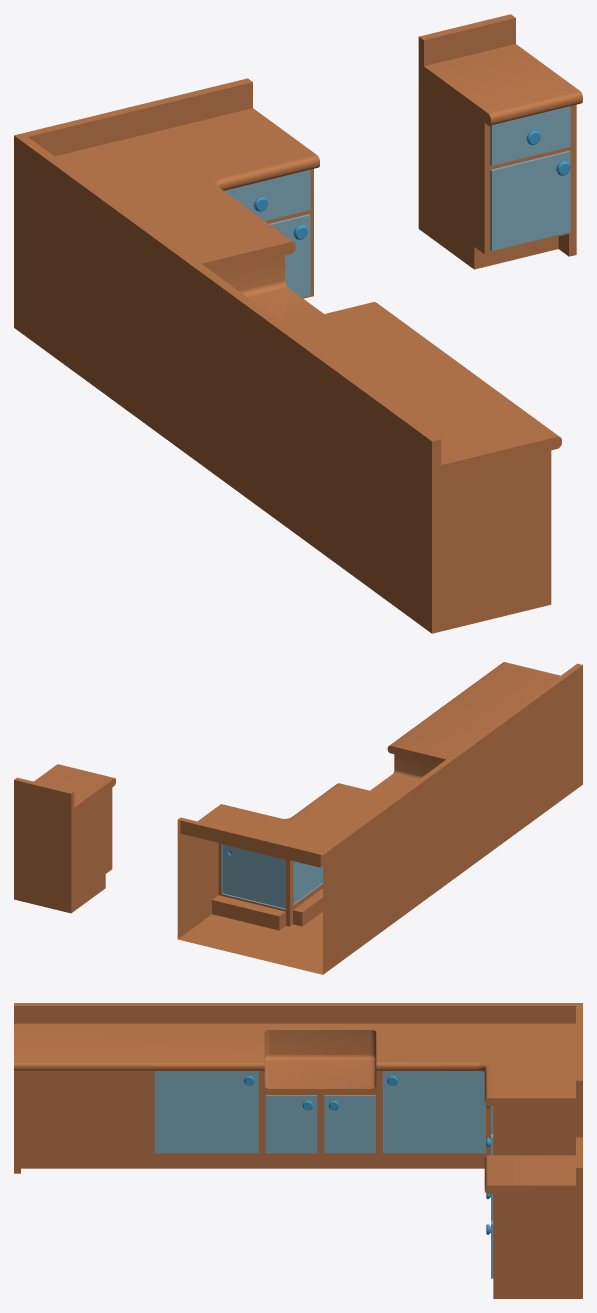
Rendered from kitchen.fbx.
3 views of the same model, one above another, from view 1: azimuth 30°, elevation 25°; view 2: azimuth 150°, elevation 25°; view 3: azimuth 270°, elevation 25° (orthographic). The views are drawn at different scales.
Visible parts, largest first — view 1: kitchen unit; view 2: kitchen unit; view 3: kitchen unit.
Boxes of the visible parts, bbox=[...] form: kitchen unit: bbox=[14, 14, 582, 633]; kitchen unit: bbox=[14, 662, 582, 974]; kitchen unit: bbox=[14, 1003, 582, 1298].
Size of the model in its own units: 2.04 by 0.7548 by 2.97.
